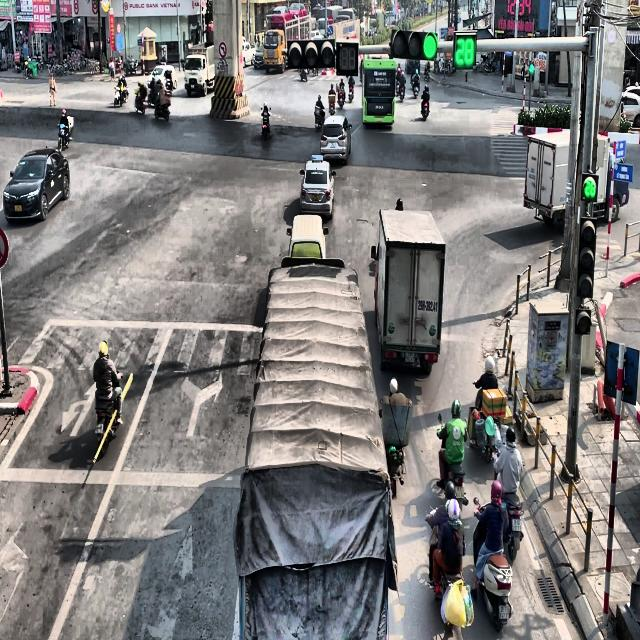lisence_plate: (498, 601, 512, 622), (403, 351, 420, 367), (312, 194, 319, 201), (330, 142, 335, 148)
